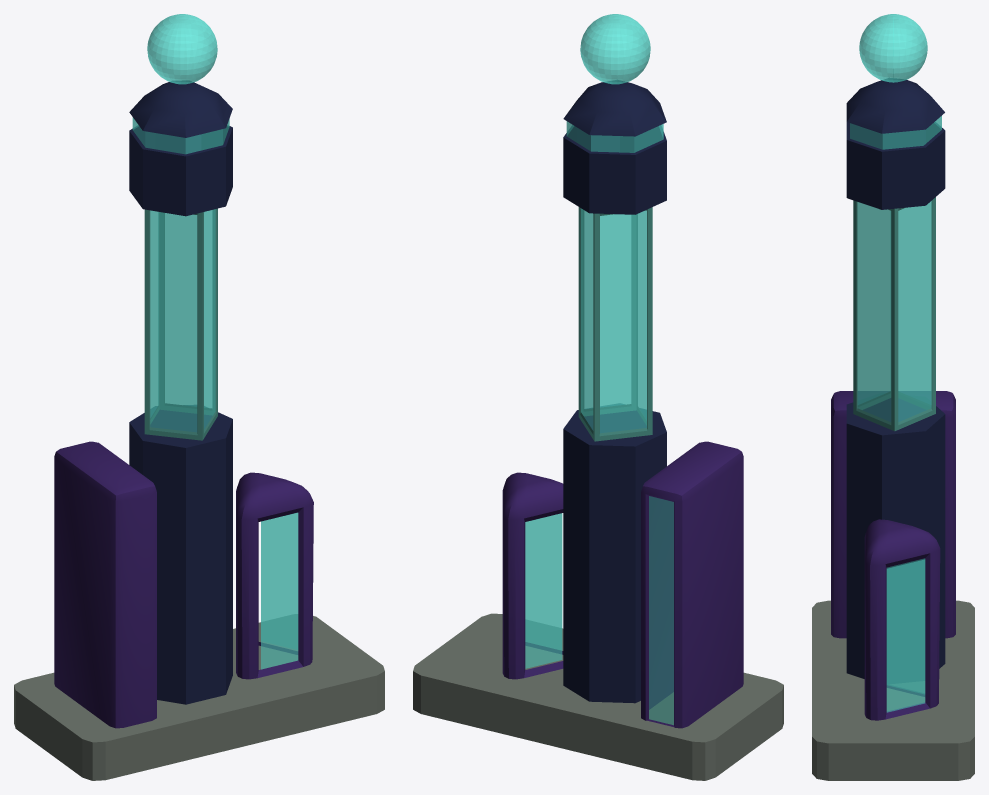
The model's file is Data Tower.fbx.
3 renders of one model, left to right at view 1: azimuth 30°, elevation 25°; view 2: azimuth 150°, elevation 25°; view 3: azimuth 270°, elevation 25°, orthographic. The views are drawn at different scales.
Parts seen in each view (by area): view 1: MainBase, Cube, Floor, Lights, TriangleLeft, LightsCage, TriangleLeft.001, Sphere, MainBase.001; view 2: MainBase, Floor, Cube, Lights, TriangleLeft, LightsCage, TriangleLeft.001, Cube.001, Sphere, MainBase.001; view 3: MainBase, Floor, Lights, TriangleLeft, Cube, TriangleLeft.001, LightsCage, Sphere, MainBase.001.
Part boxes in pixels (box(x1,y1,x2,y2)): MainBase: box(129, 81, 232, 704); Cube: box(54, 441, 156, 728); Floor: box(14, 614, 384, 780); Lights: box(150, 209, 215, 432); TriangleLeft: box(236, 472, 313, 679); LightsCage: box(144, 208, 217, 440); TriangleLeft.001: box(261, 512, 298, 669); Sphere: box(147, 14, 217, 84); MainBase.001: box(132, 117, 229, 154); MainBase: box(563, 80, 666, 703); Floor: box(413, 613, 783, 780); Cube: box(641, 441, 743, 728); Lights: box(581, 208, 646, 433); TriangleLeft: box(502, 472, 563, 679); LightsCage: box(578, 207, 652, 441); TriangleLeft.001: box(525, 513, 562, 668); Cube.001: box(649, 496, 673, 724); Sphere: box(580, 14, 650, 84); MainBase.001: box(566, 121, 663, 152); MainBase: box(846, 78, 945, 683); Floor: box(812, 600, 974, 780); Lights: box(857, 201, 931, 421); TriangleLeft: box(864, 519, 940, 720); Cube: box(831, 391, 955, 638); TriangleLeft.001: box(886, 558, 925, 712); LightsCage: box(853, 197, 935, 431); Sphere: box(859, 14, 927, 82); MainBase.001: box(850, 116, 941, 149).
Bounding box in the file's own units: 415 × 928 × 200.
